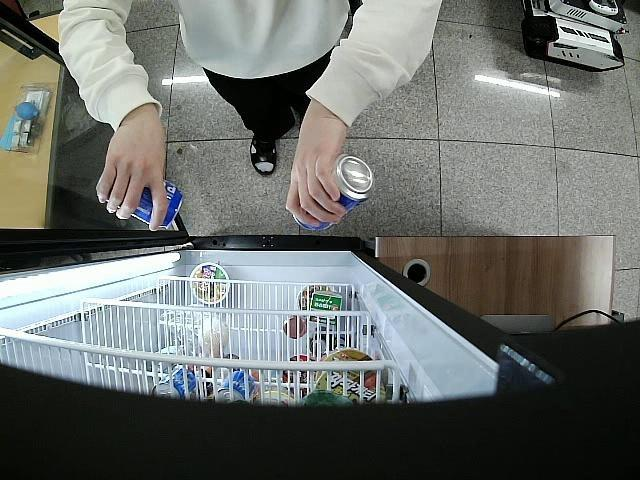13_pocariSweat: (296, 153, 374, 232), (94, 170, 185, 230)
